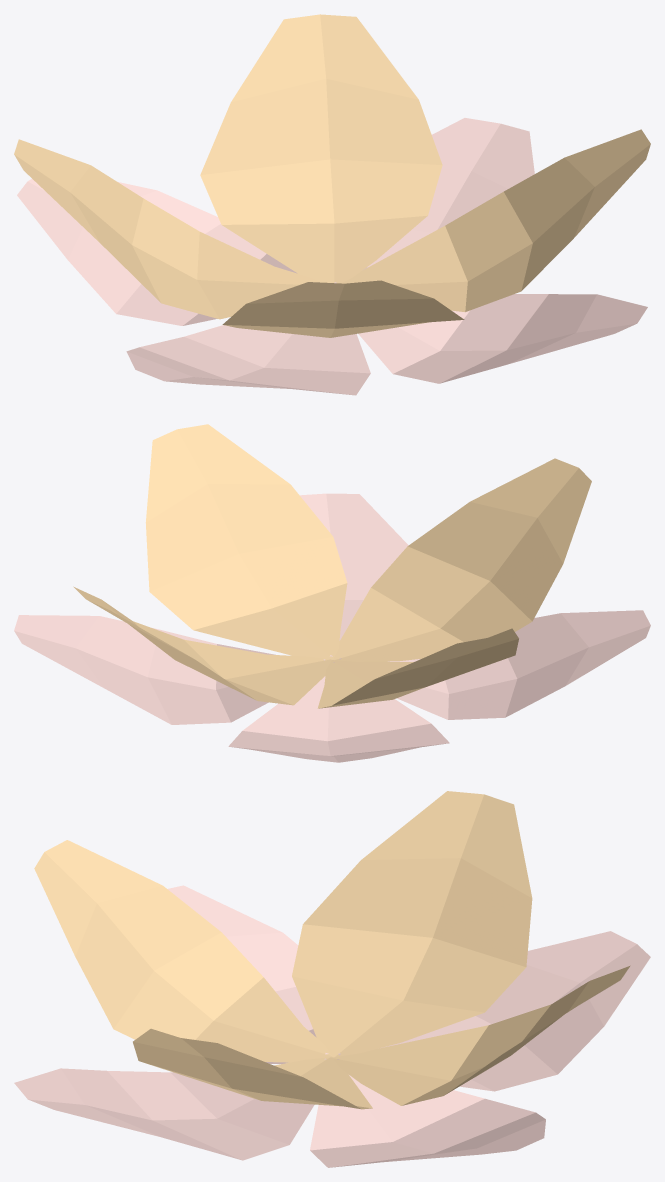
The model's file is white_waterlily_flower.glb.
3 views of the same model, one above another, from view 1: azimuth 30°, elevation 25°; view 2: azimuth 150°, elevation 25°; view 3: azimuth 270°, elevation 25° (orthographic). The views are drawn at different scales.
Parts seen in each view (by area): view 1: WhiteWaterlilyFlower; view 2: WhiteWaterlilyFlower; view 3: WhiteWaterlilyFlower.
Part boxes in pixels (x1,y1,x2,y2): WhiteWaterlilyFlower: [14, 14, 650, 395]; WhiteWaterlilyFlower: [14, 424, 650, 762]; WhiteWaterlilyFlower: [14, 791, 650, 1167].
Bounding box in the file's own units: 0.1133 × 0.0348 × 0.1133.
